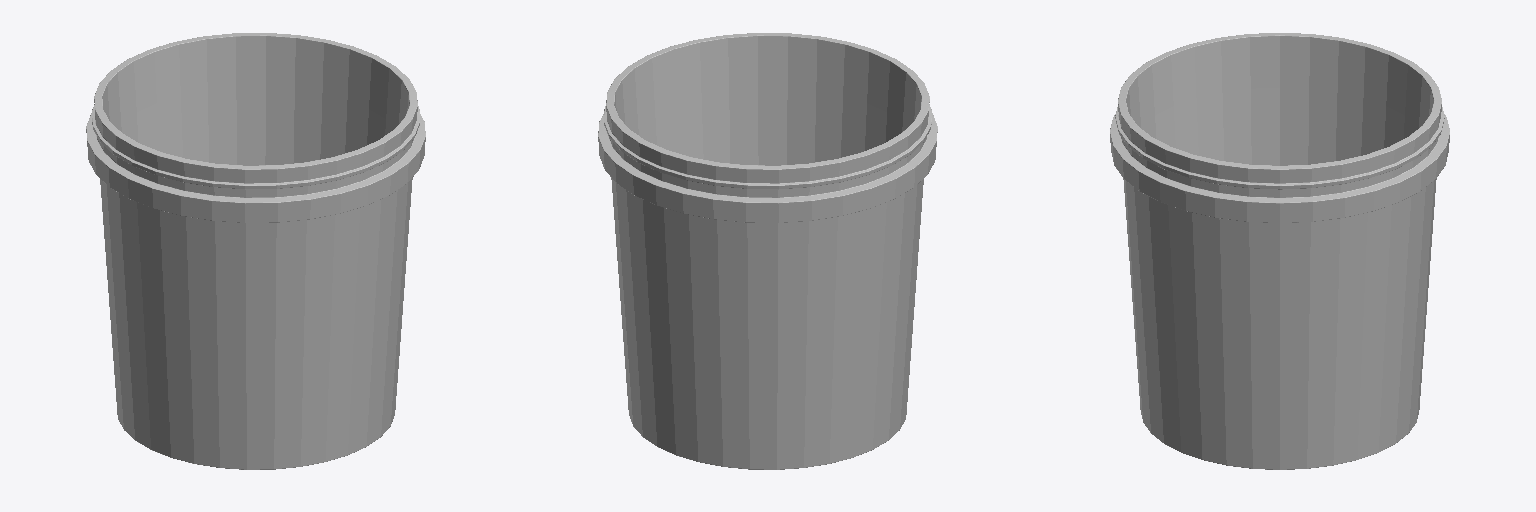
Rendered from bucket_2.obj.
3 renders of one model, left to right at view 1: azimuth 30°, elevation 25°; view 2: azimuth 150°, elevation 25°; view 3: azimuth 270°, elevation 25°, orthographic.
Visible parts, largest first — view 1: backet; view 2: backet; view 3: backet.
Part boxes in pixels (bbox=[...]): backet: bbox=[86, 33, 425, 469]; backet: bbox=[598, 33, 937, 469]; backet: bbox=[1110, 33, 1449, 469].
Size of the model in its own units: 144 by 145 by 144.